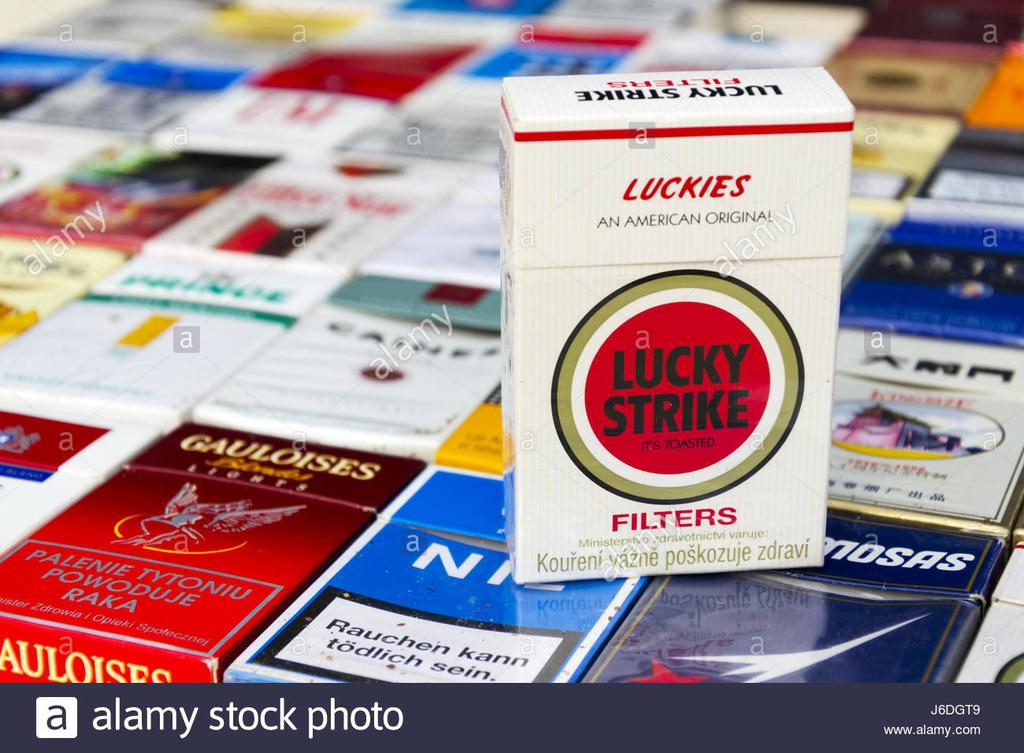lucky_strike_red: (515, 117, 822, 572)
